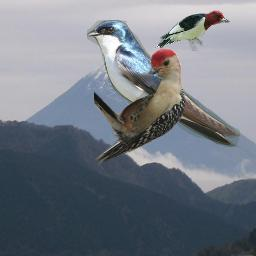Swallow: (87, 20, 240, 147)
Woodpecker: (94, 48, 185, 168), (152, 7, 231, 53)
